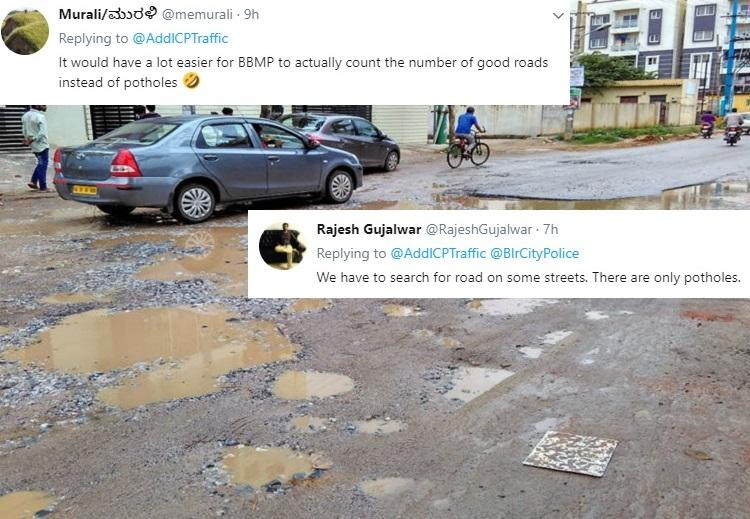pothole: (14, 308, 291, 423), (217, 439, 356, 495), (451, 173, 749, 194), (267, 353, 379, 405)
